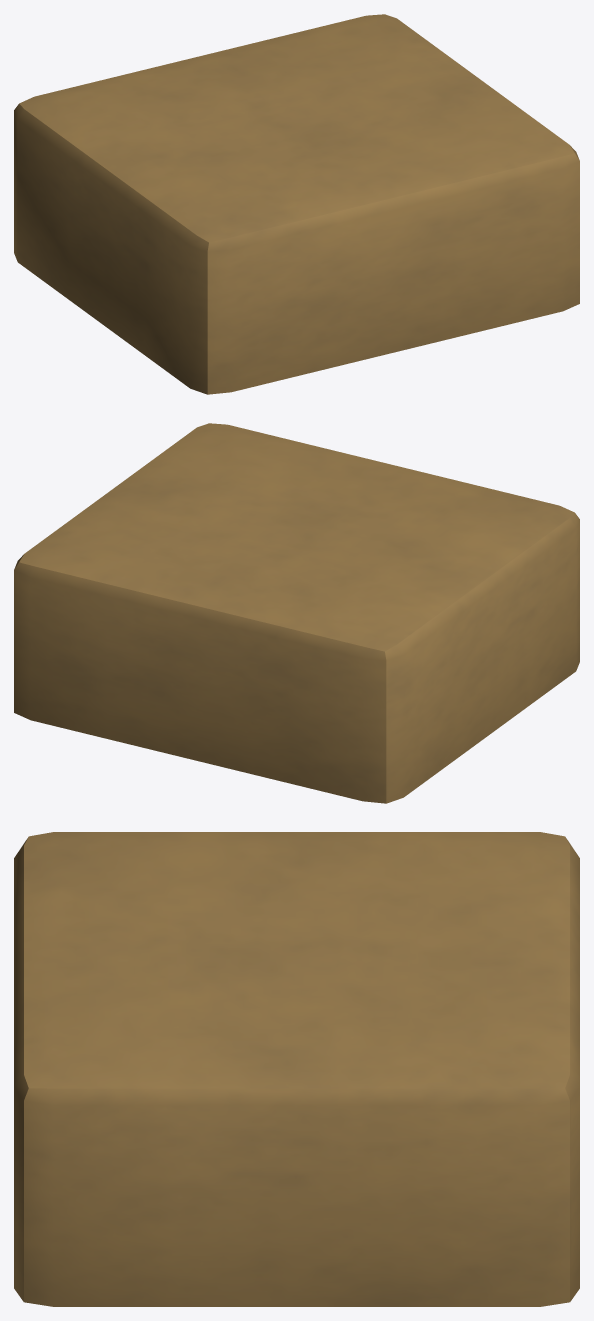
File: PlatformTall Wide HEIGHT TOP EXT.fbx
3 renders of one model, top to bottom at view 1: azimuth 30°, elevation 25°; view 2: azimuth 150°, elevation 25°; view 3: azimuth 270°, elevation 25°, orthographic. The views are drawn at different scales.
Visible parts, largest first — view 1: PlatformTall Wide HEIGHT TOP EXT; view 2: PlatformTall Wide HEIGHT TOP EXT; view 3: PlatformTall Wide HEIGHT TOP EXT.
Boxes of the visible parts, x1,y1,x2,y2 form: PlatformTall Wide HEIGHT TOP EXT: (14, 14, 579, 394); PlatformTall Wide HEIGHT TOP EXT: (14, 423, 579, 803); PlatformTall Wide HEIGHT TOP EXT: (14, 832, 579, 1306).
Size of the model in its own units: 60.28 by 54.25 by 23.04.
